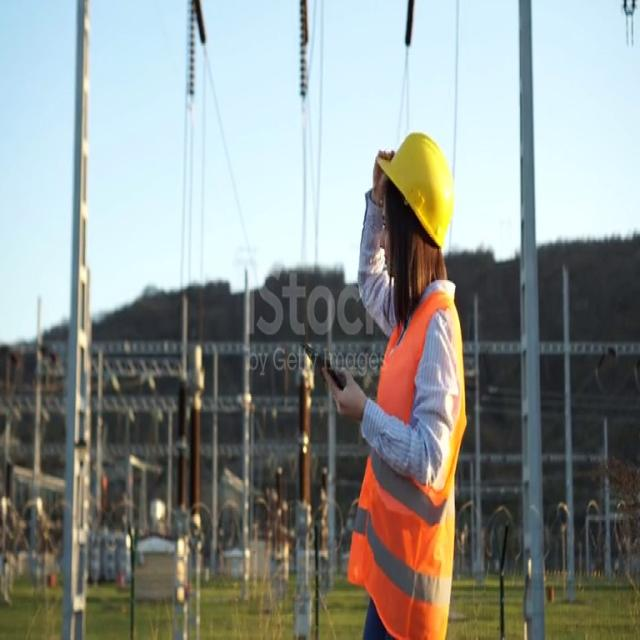capacete: (366, 112, 462, 266)
